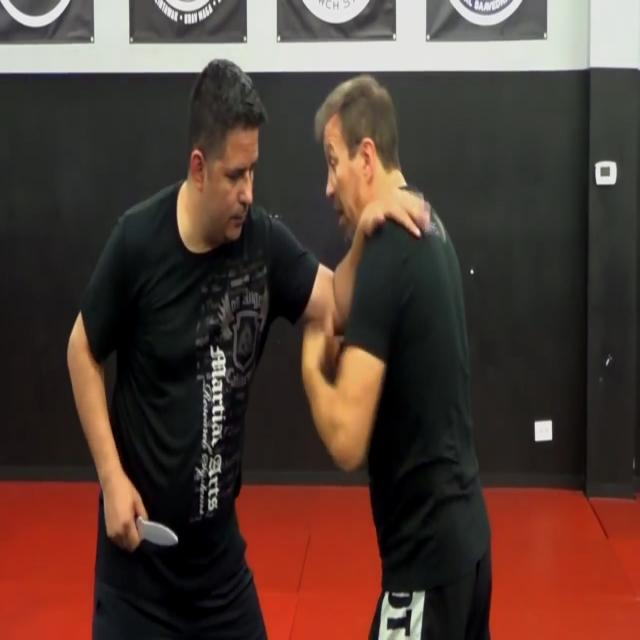knife: (139, 509, 182, 559)
